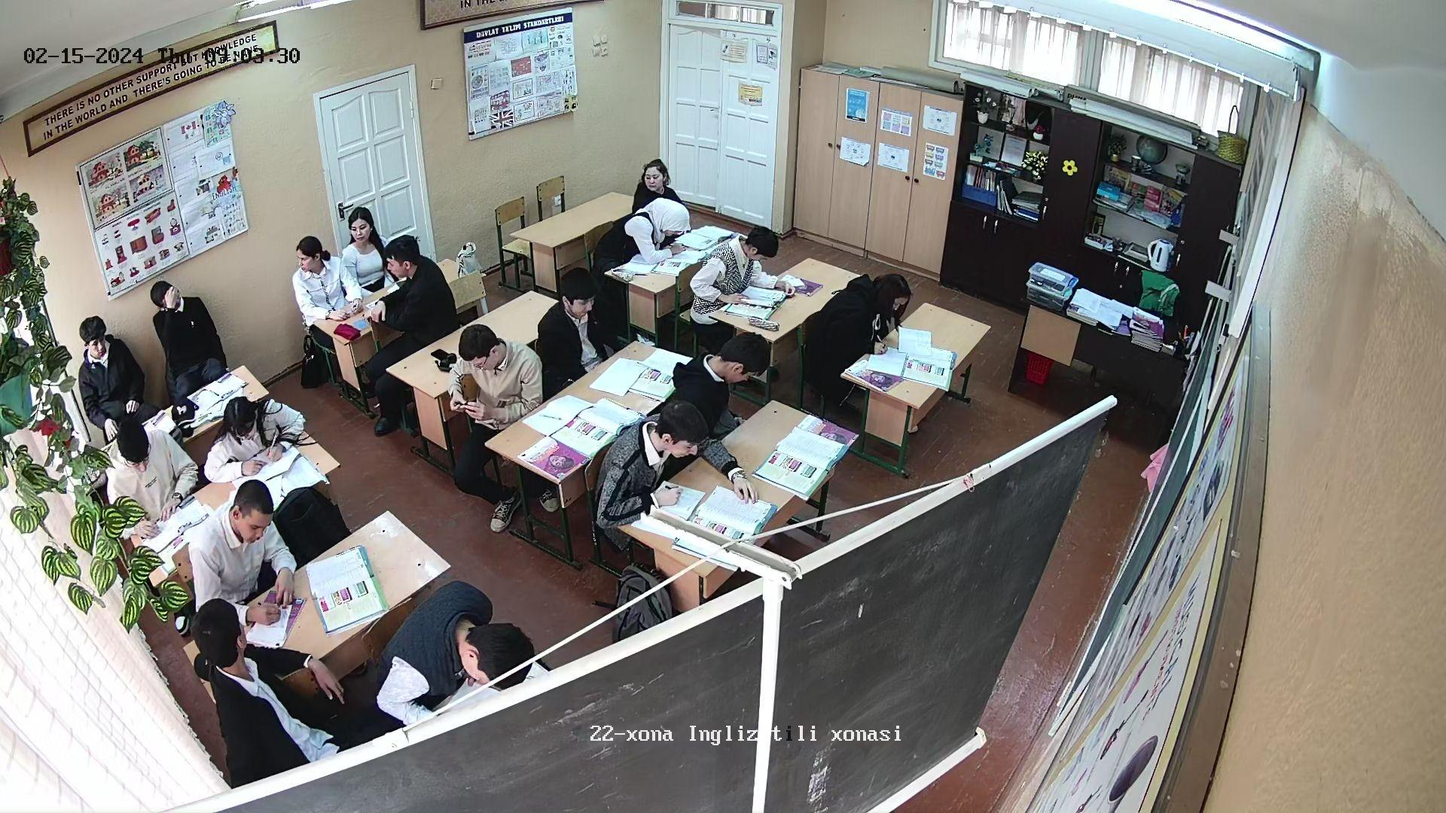Bend Over The Desk: (398, 595, 529, 704), (616, 200, 696, 274)
Hand Under Table: (558, 346, 583, 385)
Look Around: (180, 603, 272, 735), (455, 319, 535, 426), (383, 231, 448, 326), (703, 338, 772, 426), (292, 236, 346, 310), (145, 268, 206, 318), (345, 205, 383, 269), (639, 155, 677, 194)
Normal: (601, 402, 746, 525), (198, 480, 301, 604), (826, 261, 926, 376), (104, 420, 188, 524), (204, 394, 301, 477), (704, 227, 788, 317), (553, 272, 609, 345), (74, 312, 122, 362)
